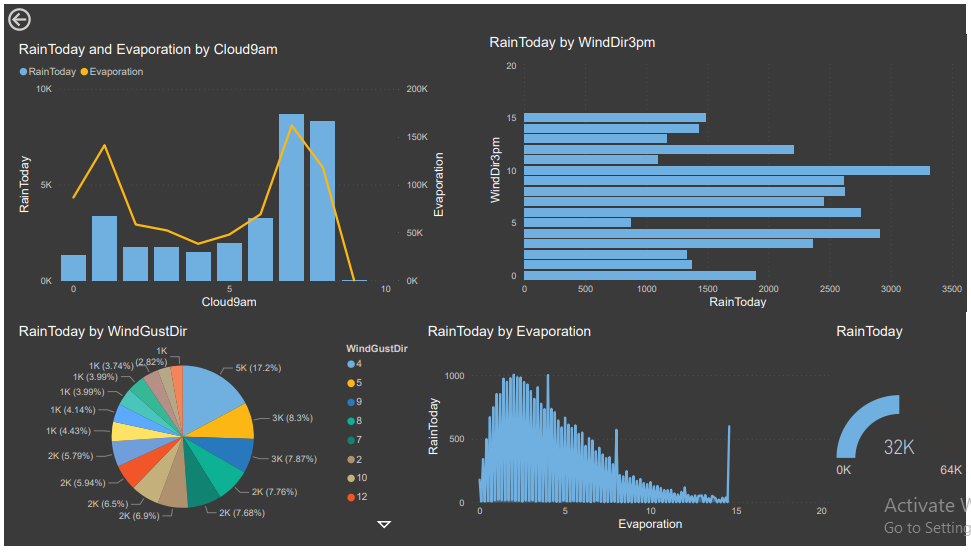

Layout of this report page (visuals, bound fields, positions):
{"tool":"powerbi","page":{"name":"Page 2","canvas":[1280,720],"ordinal":1},"visuals":[{"type":"pieChart","fields":{"Y":["Sum(preproce1.RainToday)"],"Category":["preproce1.WindGustDir"]},"box":[14.2,424.6,543.9,279.8],"z":0},{"type":"areaChart","fields":{"Y":["Sum(preproce1.RainToday)"],"Category":["preproce1.Evaporation"]},"box":[558.1,424.6,543.9,279.8],"z":1},{"type":"lineClusteredColumnComboChart","fields":{"Y":["Sum(preproce1.RainToday)"],"Category":["preproce1.Cloud9am"],"Y2":["Sum(preproce1.Evaporation)"]},"box":[14.2,48.3,576.6,360.7],"z":2},{"type":"actionButton","box":[0,0,100,40],"z":4},{"type":"clusteredBarChart","fields":{"Y":["Sum(preproce1.RainToday)"],"Category":["preproce1.WindDir3pm"]},"box":[640.5,39.8,639.1,369.2],"z":5},{"type":"gauge","fields":{"Y":["Sum(preproce1.RainToday)"]},"box":[1102,425,177,280],"z":6}]}

Visuals, with their boxes on the page's 1280x720 design canvas (x1, y1, x2, y2). These are canvas units, not pixel positions in the 971x553 screenshot, which may show the page scaled, cropped or inside an application window:
pieChart - Sum(preproce1.RainToday) x preproce1.WindGustDir: [14,425,558,704]
areaChart - Sum(preproce1.RainToday) x preproce1.Evaporation: [558,425,1102,704]
lineClusteredColumnComboChart - Sum(preproce1.RainToday) x preproce1.Cloud9am: [14,48,591,409]
actionButton: [0,0,100,40]
clusteredBarChart - Sum(preproce1.RainToday) x preproce1.WindDir3pm: [640,40,1280,409]
gauge - Sum(preproce1.RainToday): [1102,425,1279,705]
